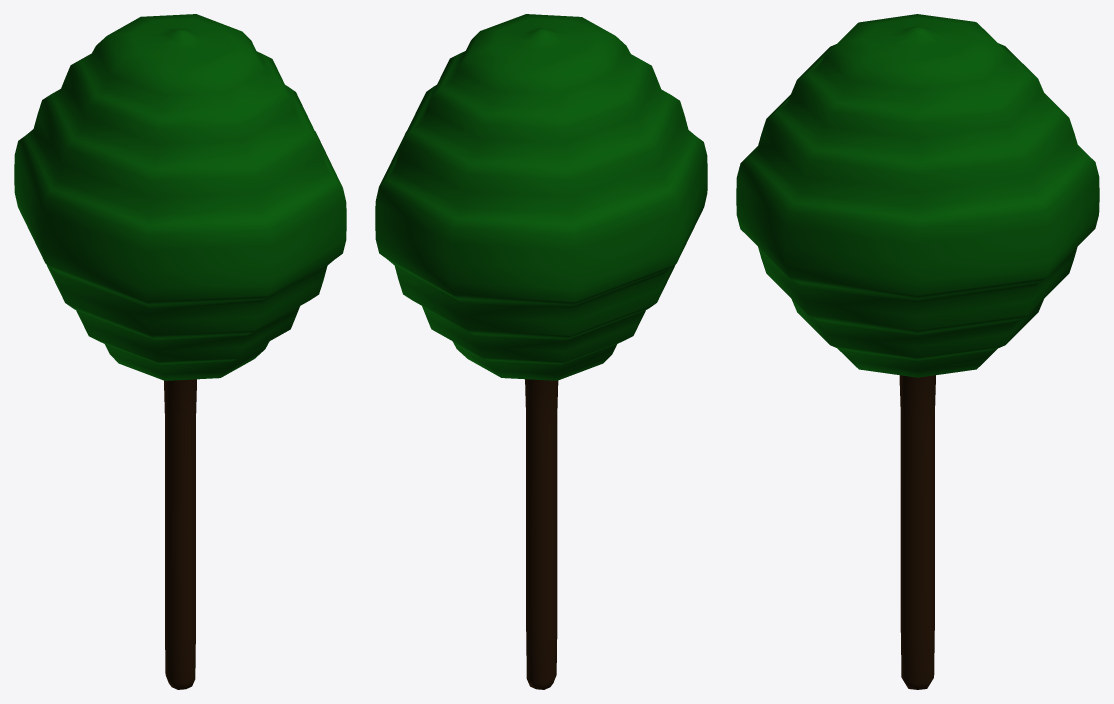
File: Arbol.fbx
3 renders of one model, left to right at view 1: azimuth 30°, elevation 25°; view 2: azimuth 150°, elevation 25°; view 3: azimuth 270°, elevation 25°, orthographic.
Parts seen in each view (by area): view 1: Cube; view 2: Cube; view 3: Cube.
Part boxes in pixels (x1=…): Cube: x1=14, y1=14, x2=346, y2=689; Cube: x1=375, y1=14, x2=707, y2=689; Cube: x1=736, y1=14, x2=1099, y2=689.
Bounding box in the file's own units: 796 × 1804 × 902.
